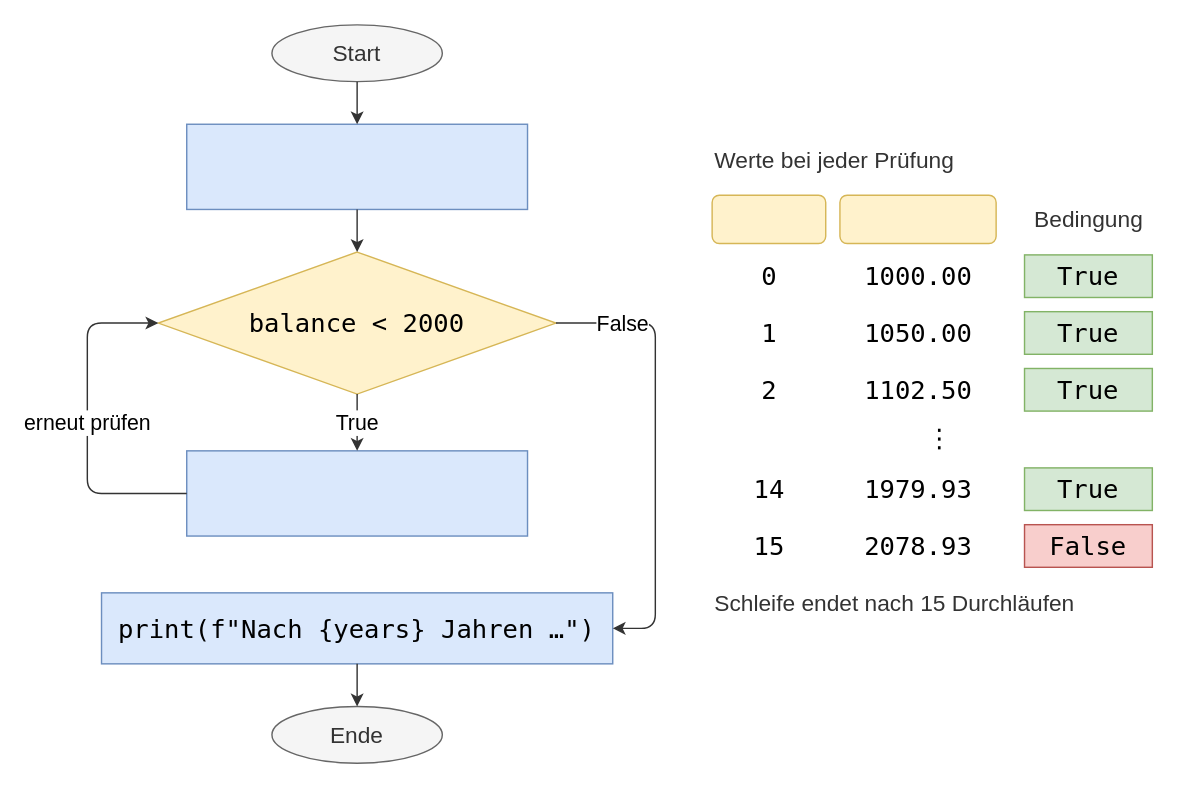
This 1191x788 diagram has some shape labels left out. The centre of each missing label's shape, as x and y in pixels:
balance: pixel 917 219
balance *= 1.05 years += 1: pixel 356 492
balance = 1000.0 years = 0: pixel 356 166
years: pixel 768 219
